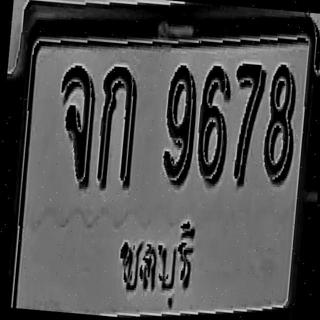A01: (94, 63, 140, 190)
A08: (53, 64, 98, 189)
N06: (194, 62, 233, 186)
N07: (227, 61, 266, 188)
N08: (261, 62, 300, 184)
N09: (160, 63, 200, 187)
P13: (110, 212, 198, 316)
